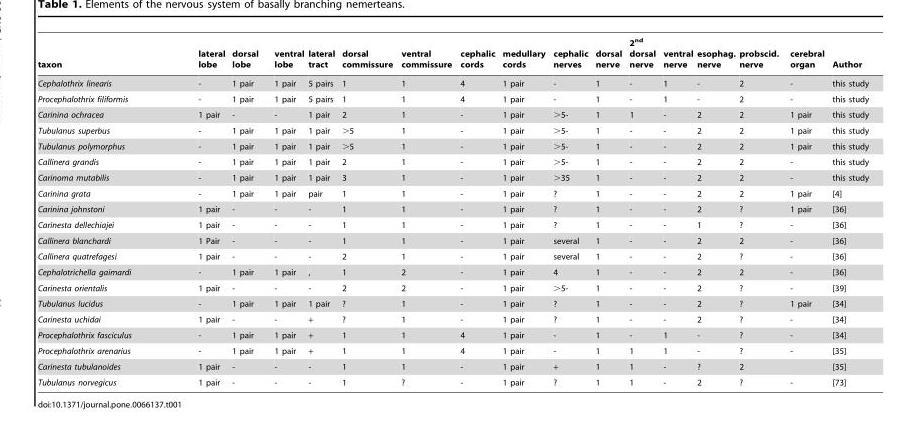table: (37, 36, 869, 386)
table column: (37, 36, 165, 386), (165, 36, 228, 386), (338, 36, 397, 386), (397, 36, 456, 386), (499, 36, 549, 386), (737, 36, 784, 386), (784, 36, 828, 386), (456, 36, 499, 386), (549, 36, 592, 386), (695, 36, 737, 386), (828, 36, 869, 386), (266, 36, 306, 386), (228, 36, 266, 386), (659, 36, 695, 386), (625, 36, 659, 386), (592, 36, 625, 386), (306, 36, 338, 386)
table column header: (37, 36, 869, 73)
table row: (37, 36, 869, 73), (37, 73, 869, 91), (37, 357, 869, 374), (37, 106, 869, 122), (37, 122, 869, 138), (37, 153, 869, 169), (37, 169, 869, 185), (37, 185, 869, 201), (37, 216, 869, 232), (37, 232, 869, 248), (37, 248, 869, 264), (37, 279, 869, 295), (37, 310, 869, 326), (37, 326, 869, 342), (37, 91, 869, 106), (37, 138, 869, 153), (37, 201, 869, 216), (37, 264, 869, 279), (37, 295, 869, 310), (37, 342, 869, 357), (37, 374, 869, 386)
